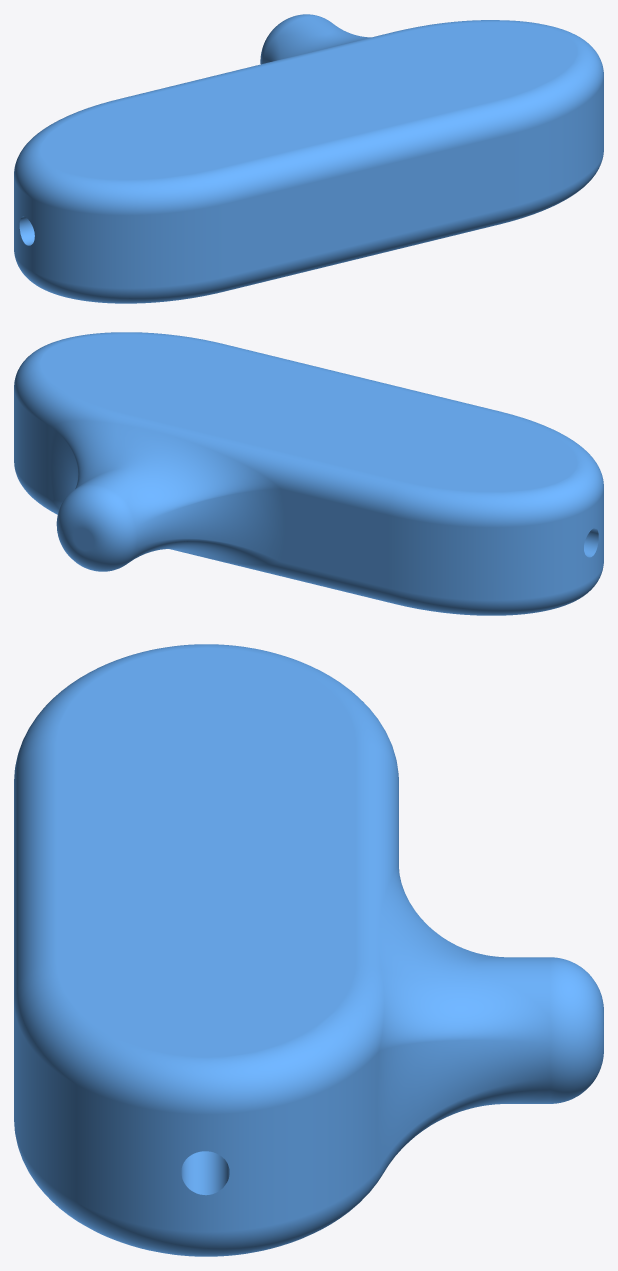
Rendered from blauw uitstolping.glb.
3 renders of one model, top to bottom at view 1: azimuth 30°, elevation 25°; view 2: azimuth 150°, elevation 25°; view 3: azimuth 270°, elevation 25°, orthographic. The views are drawn at different scales.
Size of the model in its own units: 0.087 by 0.0178 by 0.0487.
